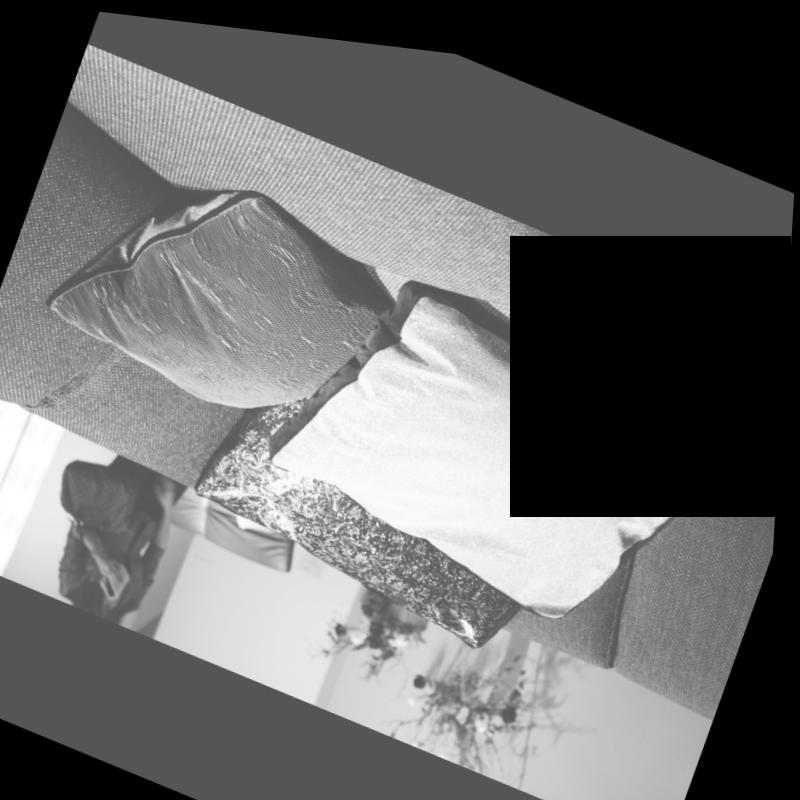pillow: (257, 239, 760, 654), (39, 123, 419, 452), (178, 357, 570, 652)
